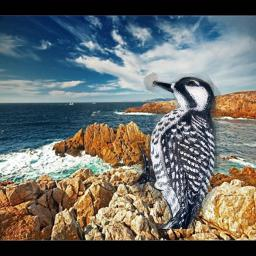Woodpecker: (133, 71, 221, 229)
